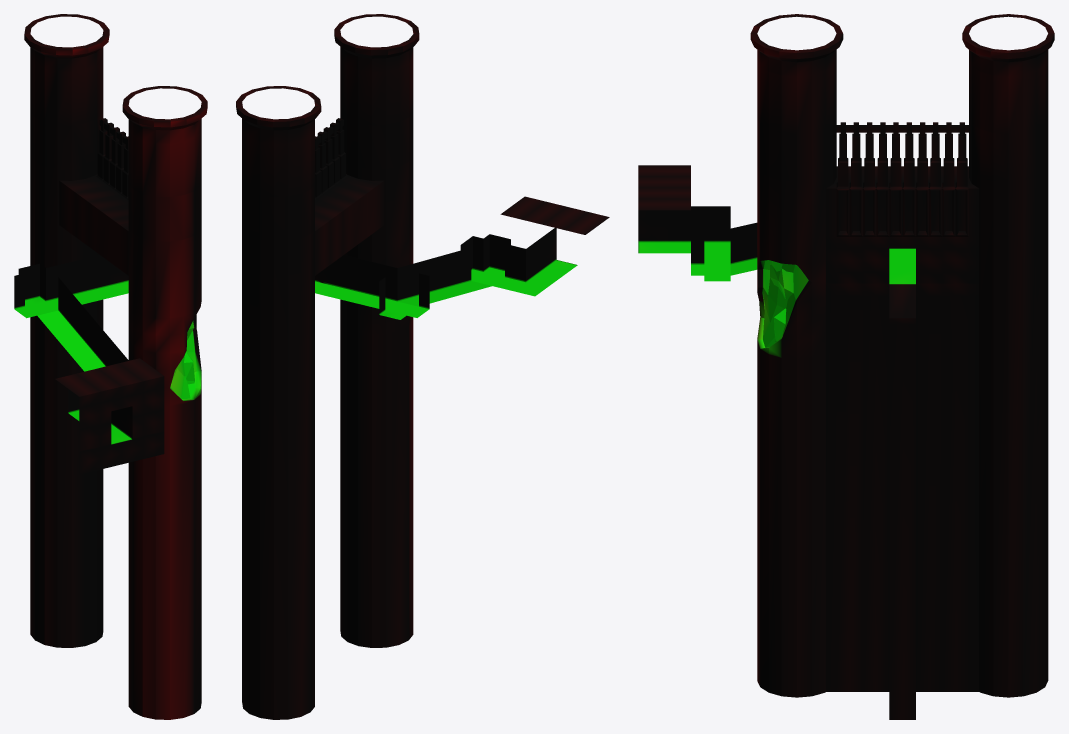
File: transition_4.glb
3 renders of one model, left to right at view 1: azimuth 30°, elevation 25°; view 2: azimuth 150°, elevation 25°; view 3: azimuth 270°, elevation 25°, orthographic. The views are drawn at different scales.
Parts seen in each view (by area): view 1: Towers, Transition_Tunnel; view 2: Towers, Transition_Tunnel; view 3: Transition_Tunnel, Towers.
Boxes of the visible parts, x1,y1,x2,y2 form: Towers: [24, 14, 207, 719]; Transition_Tunnel: [14, 118, 196, 474]; Towers: [236, 14, 419, 719]; Transition_Tunnel: [315, 118, 609, 319]; Transition_Tunnel: [638, 122, 979, 719]; Towers: [750, 14, 1054, 697].
Size of what is drawn, in the model's own units: 22 by 54 by 31.5.
